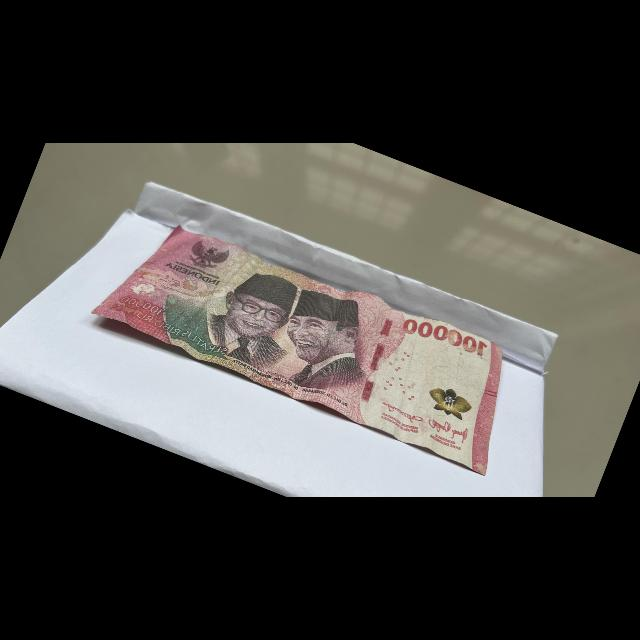Palsu-100k: (80, 202, 535, 479)
Tinta-Palsu-100k: (423, 379, 476, 423)
